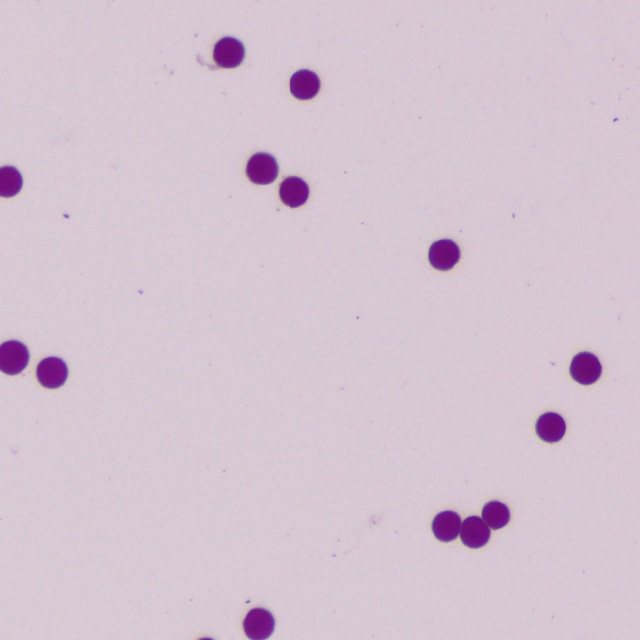viable: (433, 501, 509, 547), (247, 154, 309, 206), (1, 341, 67, 387), (247, 153, 277, 184), (571, 353, 601, 384), (37, 358, 67, 388), (429, 240, 459, 270), (214, 37, 244, 67), (244, 609, 274, 639), (1, 341, 28, 374), (290, 70, 320, 99), (461, 517, 490, 547), (280, 178, 308, 207), (537, 413, 565, 442), (433, 511, 460, 541), (483, 501, 509, 528), (1, 167, 22, 196)
